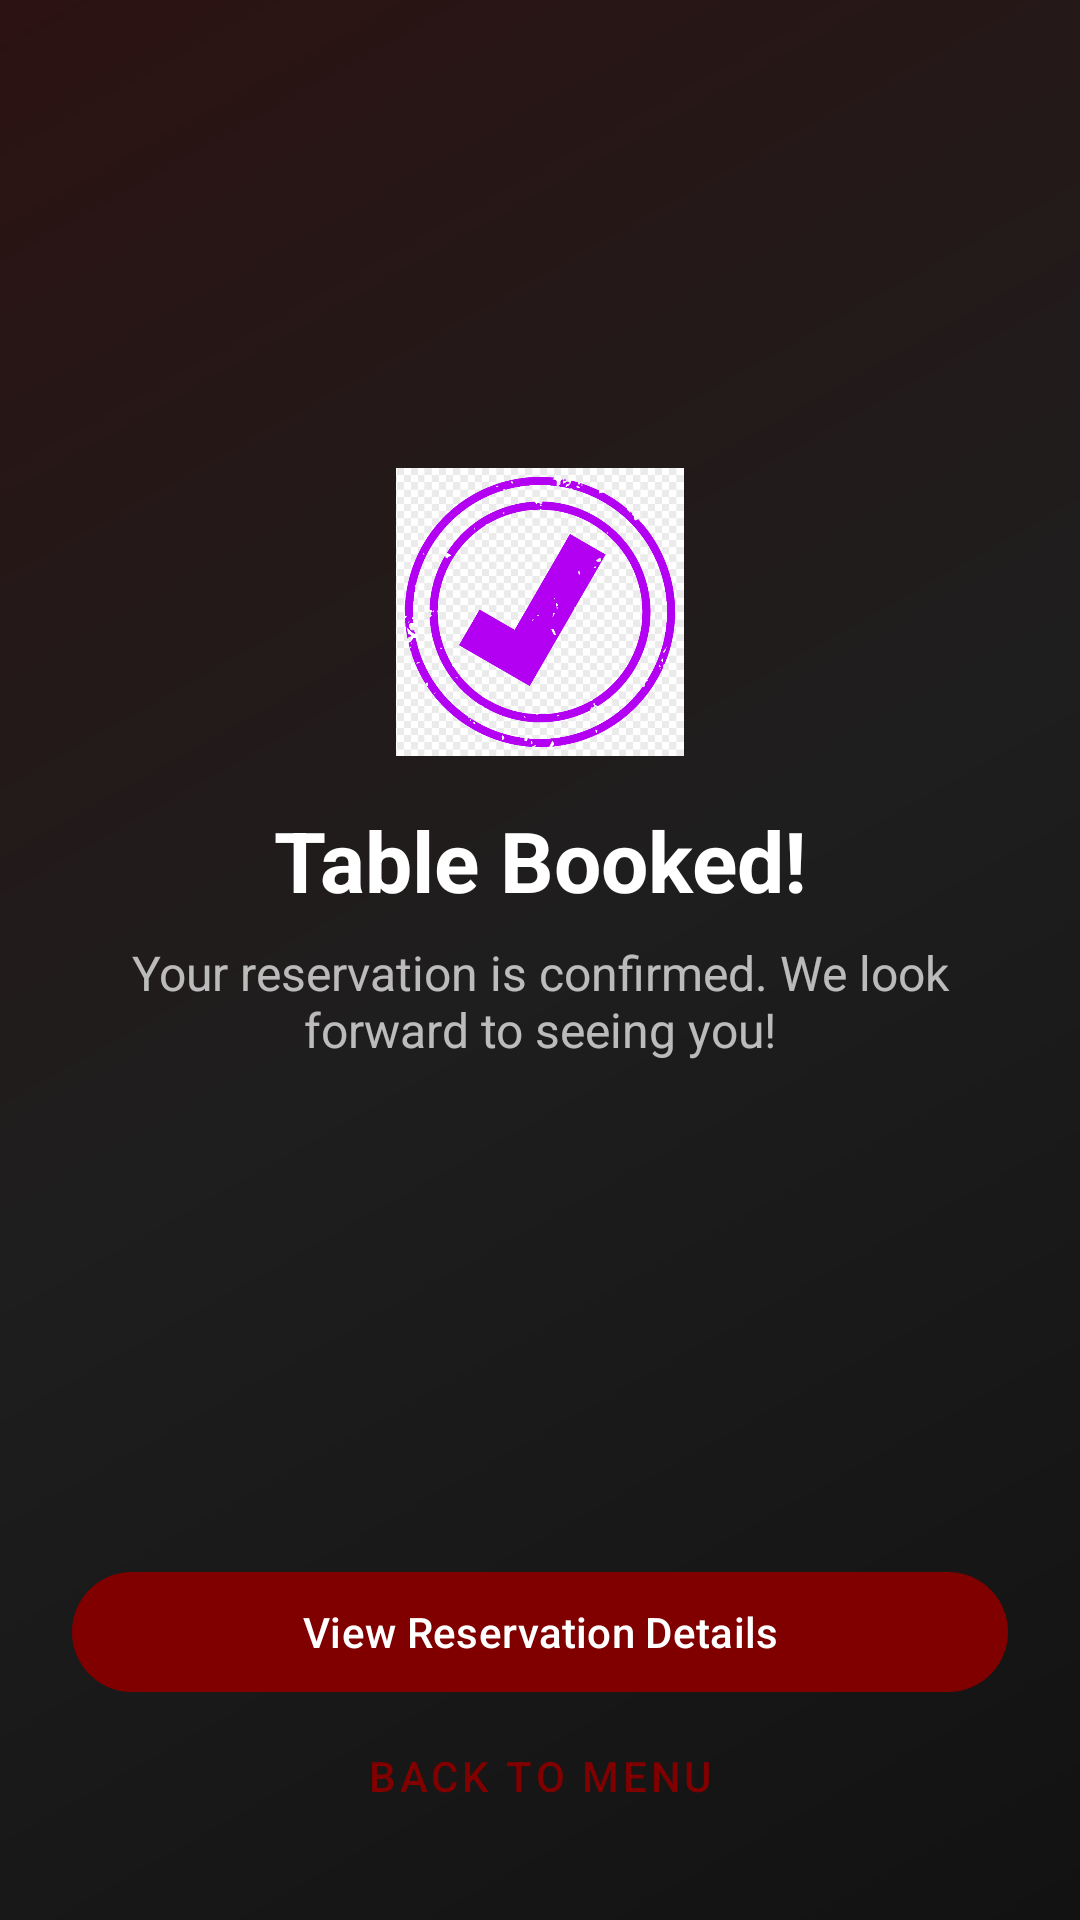

Named icons in this screenshot (1080w x 1920h) and their centers, [x,y]:
Success checkmark icon: [540,612]
